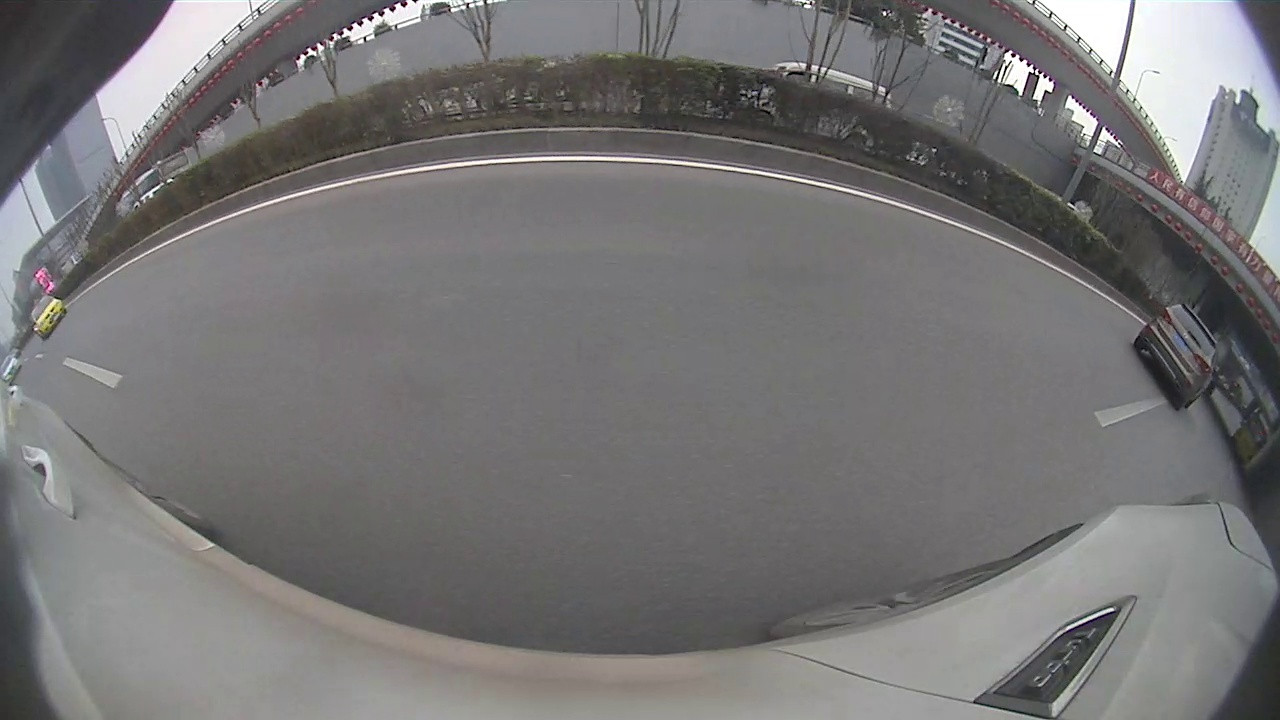car: (1133, 303, 1214, 410), (27, 294, 68, 338)
